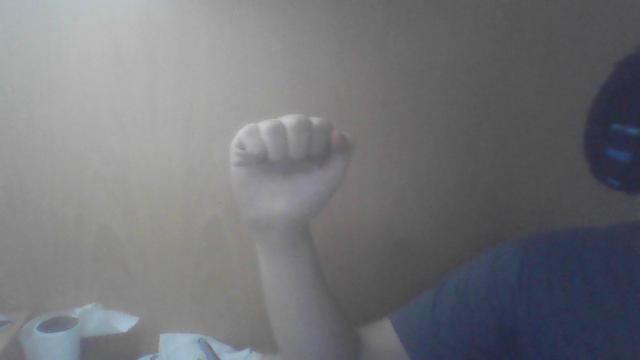forward: (227, 112, 353, 229)
